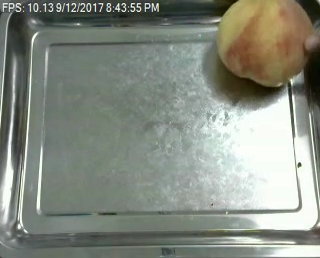Peach: (216, 0, 313, 85)
